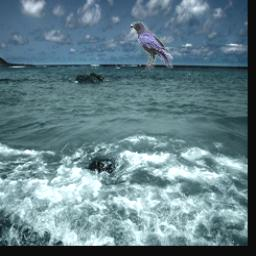Crow: (130, 22, 172, 71)
